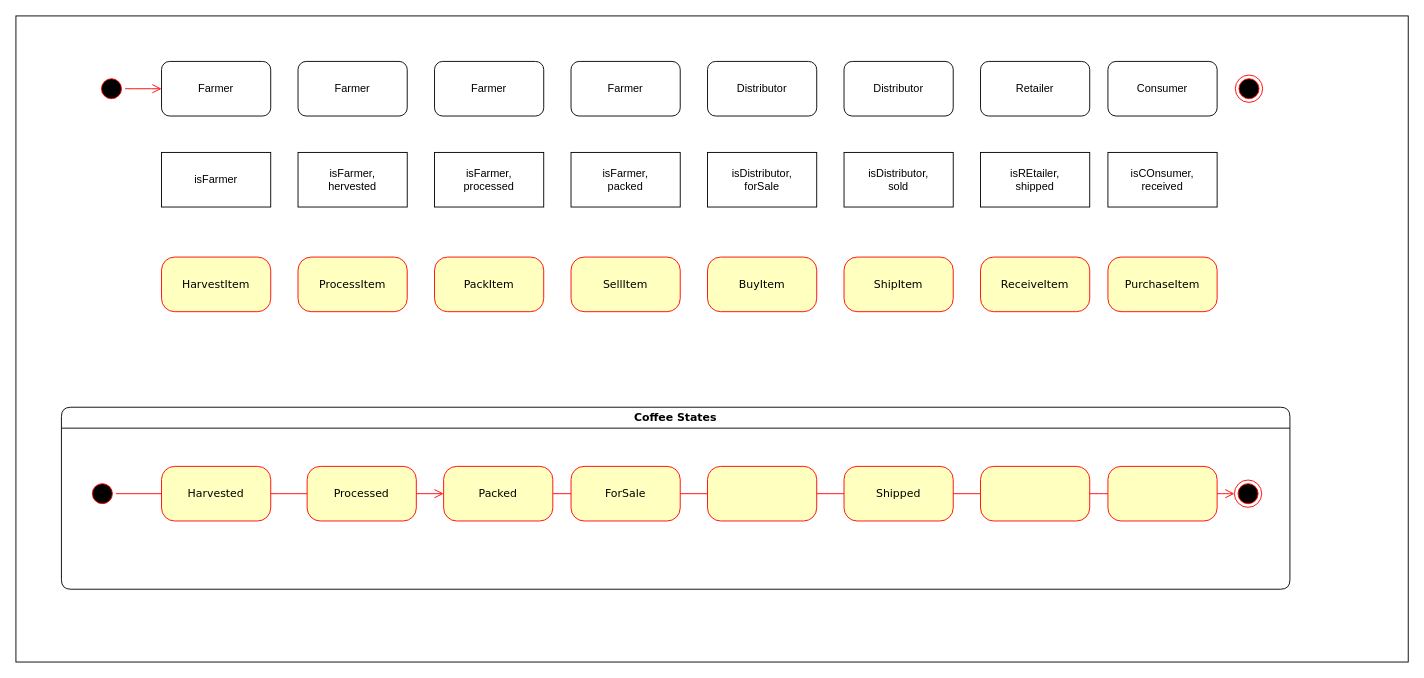
This 1424x678 diagram has some shape labels left out. Each missing label, with the centre of its shape:
Purchased: the point at 1162,493
Received: the point at 1035,493
Sold: the point at 762,493
